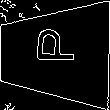P_W: (31, 35, 79, 73)
